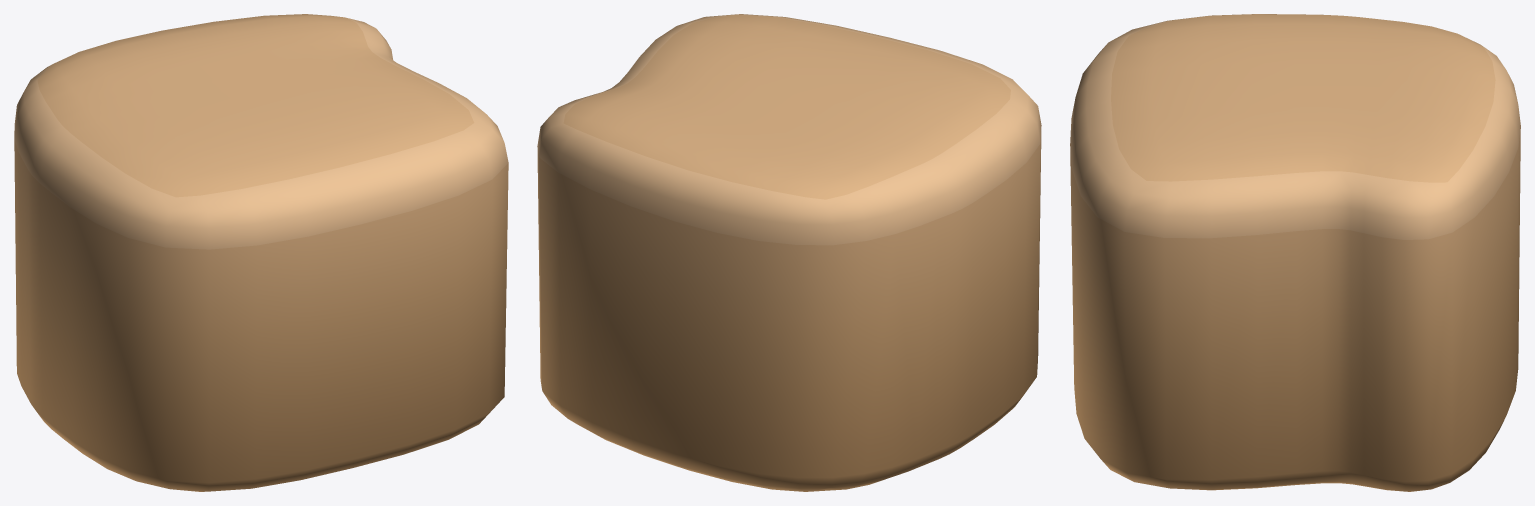
File: big_stone_2_sand.fbx
3 views of the same model, side by side, from view 1: azimuth 30°, elevation 25°; view 2: azimuth 150°, elevation 25°; view 3: azimuth 270°, elevation 25° (orthographic). The views are drawn at different scales.
Parts seen in each view (by area): view 1: big_stone_2_sand; view 2: big_stone_2_sand; view 3: big_stone_2_sand.
Part boxes in pixels (box(x1,y1,x2,y2)): big_stone_2_sand: box(14, 14, 508, 491); big_stone_2_sand: box(537, 14, 1041, 491); big_stone_2_sand: box(1070, 14, 1520, 491).
Bounding box in the file's own units: 256 × 200 × 247.
